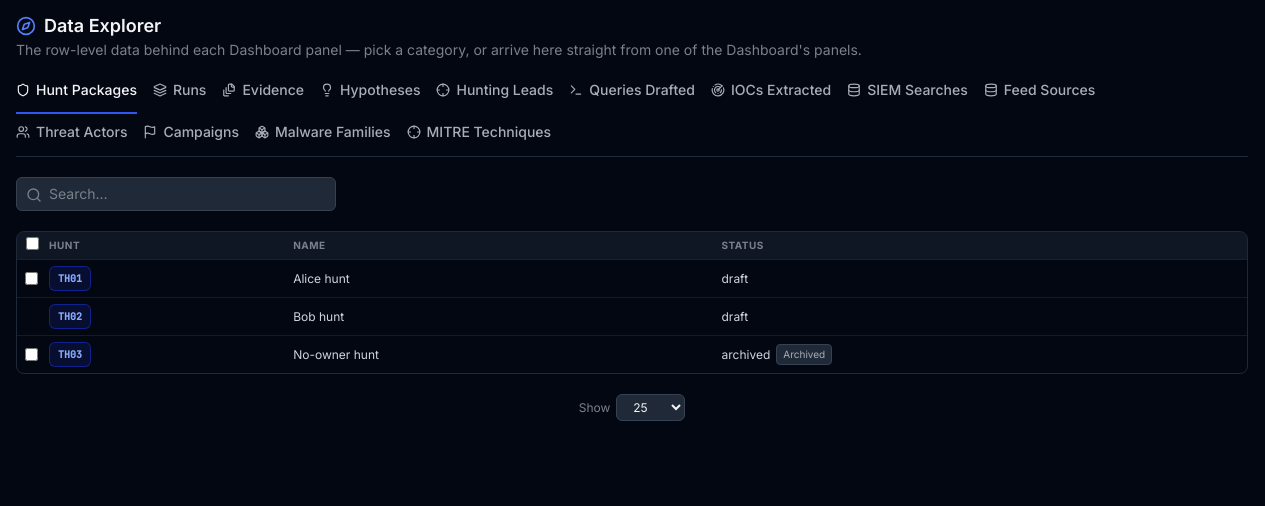
it: DataExplorer — bulk archive/unarchive/delete (issue-local-044) › shows the bulk-action bar once a row is selected, and clears it via Clear selection
Check: the text "Alice hunt" is shown, box [285, 260, 714, 298]
Check: the text "selected" is not shown
Click the checkbox named "Select Alice hunt" at (32, 278), box [25, 272, 38, 284]
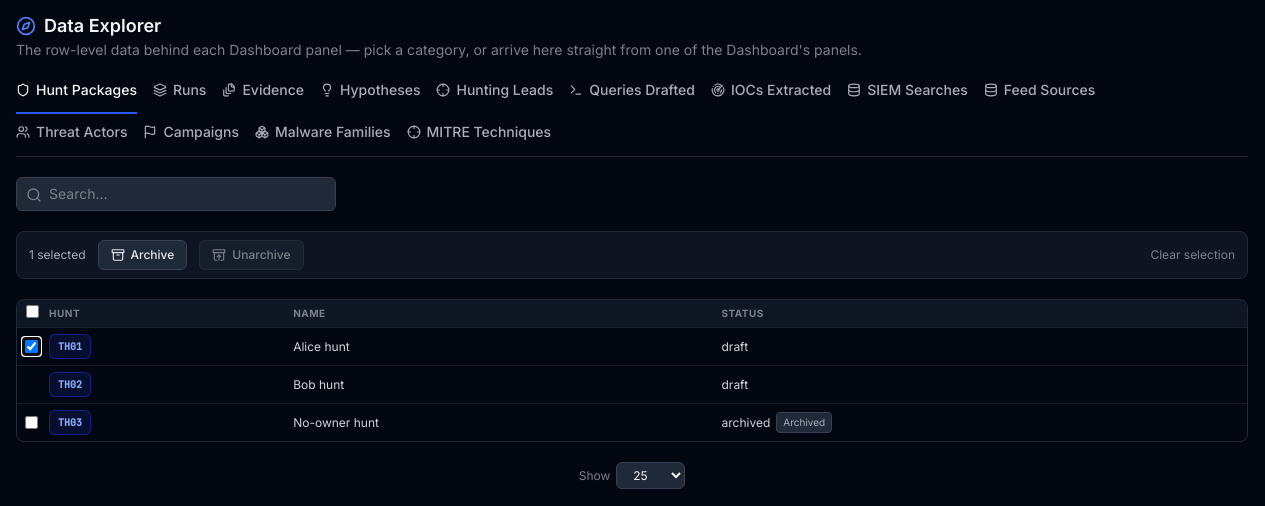
Check: the text "1 selected" is shown, box [29, 247, 86, 263]
Click the button "Clear selection" at (1193, 255), box [1150, 247, 1235, 263]
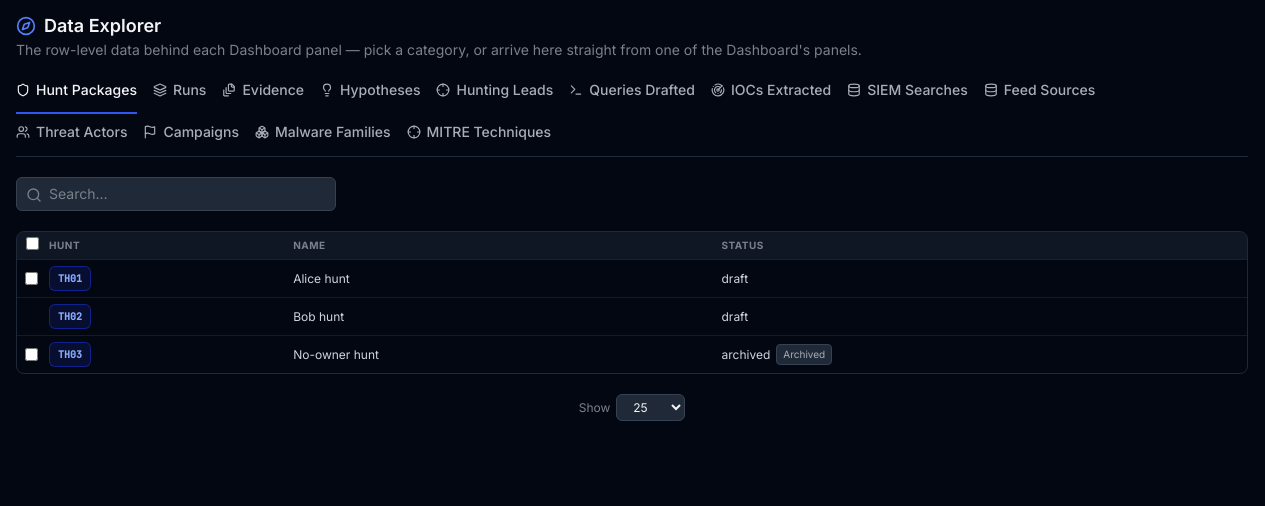
Check: the text "selected" is gone
